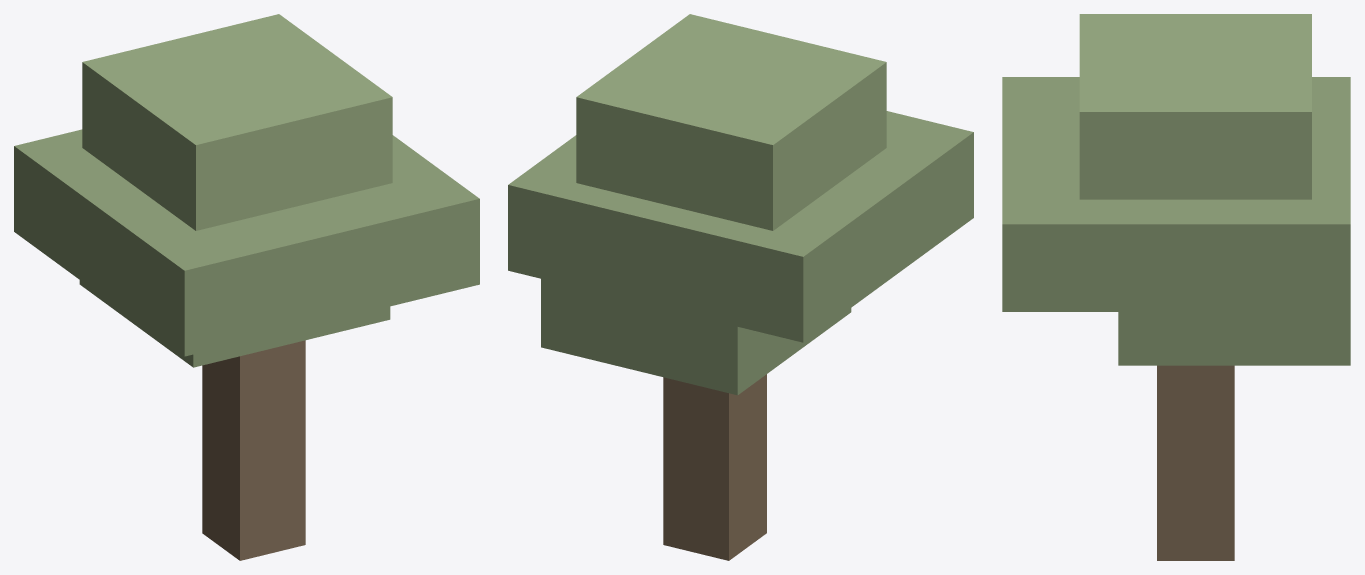
File: olivo_03.glb
3 renders of one model, left to right at view 1: azimuth 30°, elevation 25°; view 2: azimuth 150°, elevation 25°; view 3: azimuth 270°, elevation 25°, orthographic. The views are drawn at different scales.
Parts seen in each view (by area): view 1: olivo_03; view 2: olivo_03; view 3: olivo_03.
Part boxes in pixels (box(x1,y1,x2,y2)): olivo_03: box(14, 14, 479, 560); olivo_03: box(508, 14, 973, 560); olivo_03: box(1002, 14, 1350, 560).
Size of the model in its own units: 1.8 by 2.7 by 1.8.
